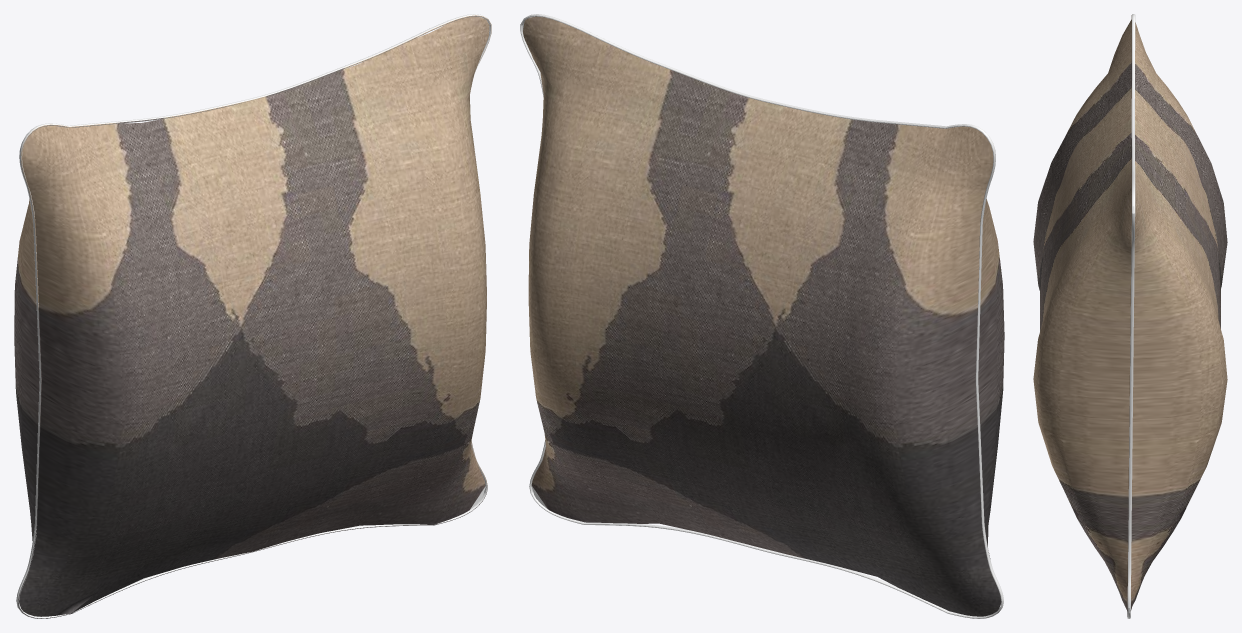
The model's file is Layered_DotsCushion-Square.glb.
3 renders of one model, left to right at view 1: azimuth 30°, elevation 25°; view 2: azimuth 150°, elevation 25°; view 3: azimuth 270°, elevation 25°, orthographic. The views are drawn at different scales.
Parts seen in each view (by area): view 1: model 8; view 2: model 8; view 3: model 8.
Part boxes in pixels (bbox=[...]): model 8: bbox=[14, 14, 491, 618]; model 8: bbox=[520, 14, 1004, 618]; model 8: bbox=[1033, 14, 1227, 618].
Bounding box in the file's own units: 0.5 × 0.5 × 0.2036.
2 materials, 1 textured.
